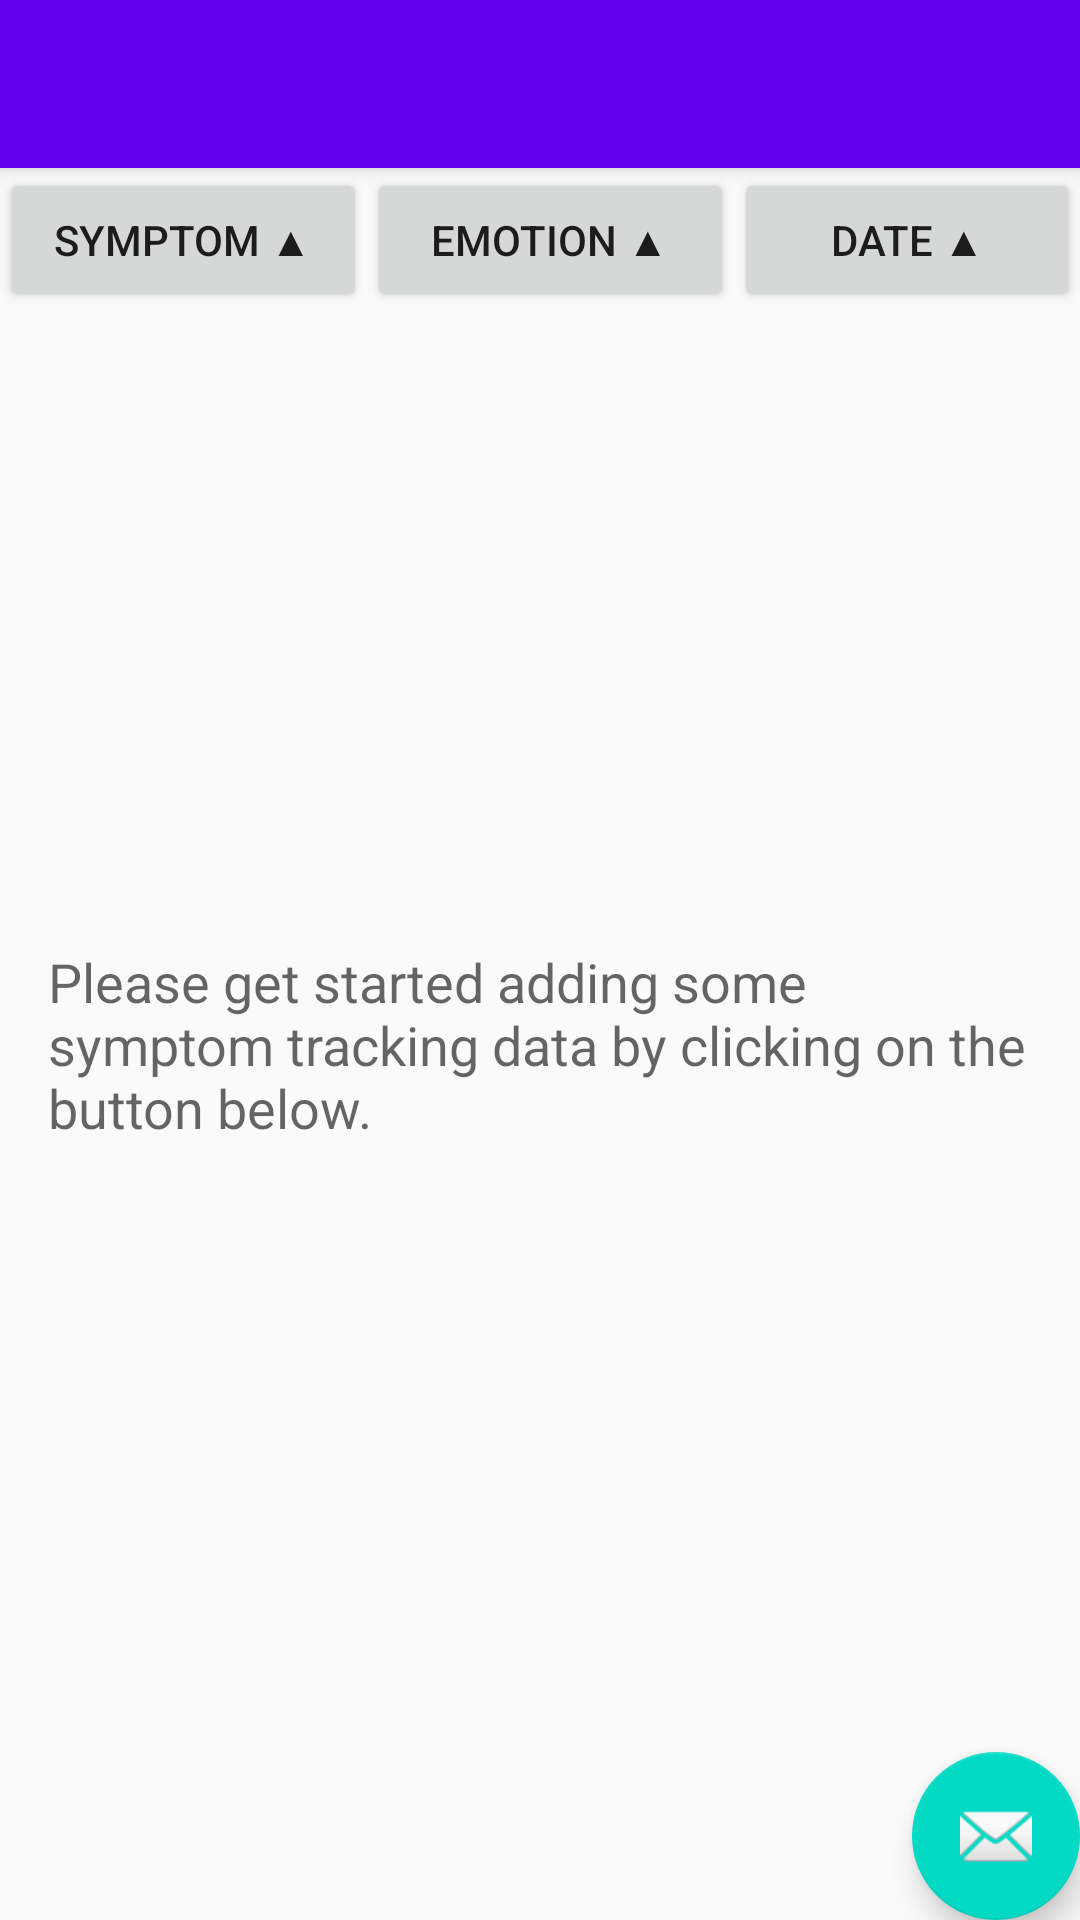

Icons on this 1080px x 1920px Android screen, each with the point to tap as [x,y]:
email: [996,1836]
